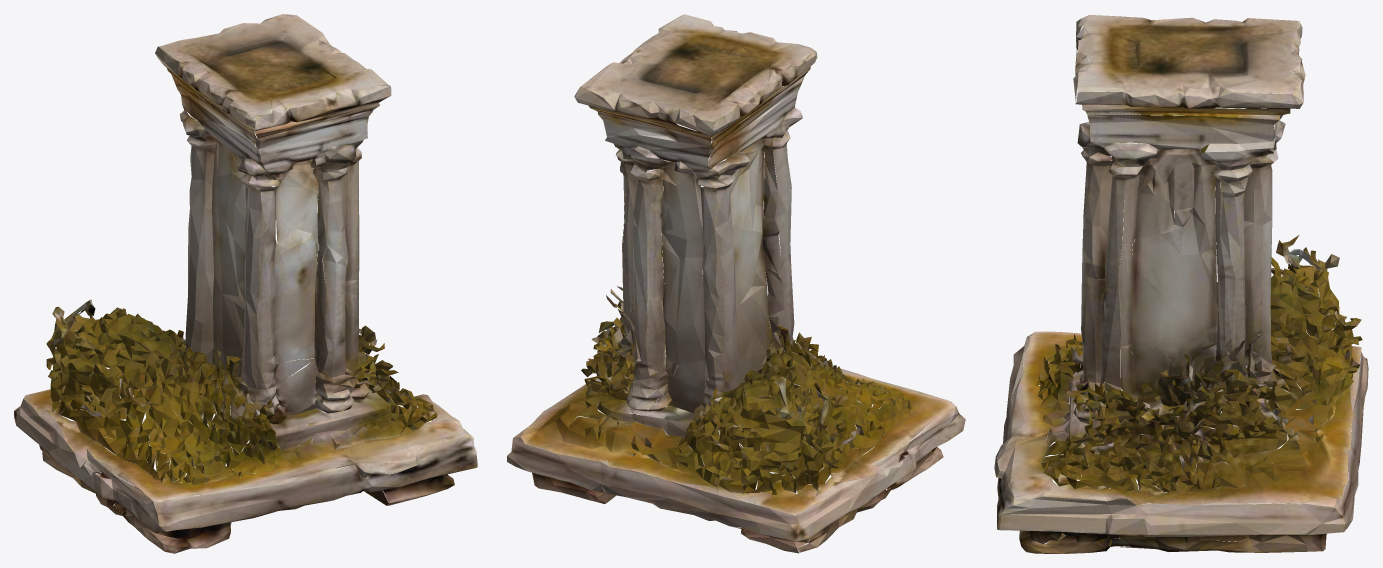
File: wt-ruins-colonnade.glb
3 views of the same model, side by side, from view 1: azimuth 30°, elevation 25°; view 2: azimuth 150°, elevation 25°; view 3: azimuth 270°, elevation 25° (orthographic). The views are drawn at different scales.
Parts seen in each view (by area): view 1: tmptyu0ttgb.ply; view 2: tmptyu0ttgb.ply; view 3: tmptyu0ttgb.ply.
Part boxes in pixels (left/top/right/bottom): tmptyu0ttgb.ply: left=14, top=14, right=477, bottom=553; tmptyu0ttgb.ply: left=507, top=14, right=965, bottom=553; tmptyu0ttgb.ply: left=994, top=15, right=1368, bottom=553.
Size of the model in its own units: 4.44 by 5.29 by 4.03.
Materials: 1 (1 with a texture image).
